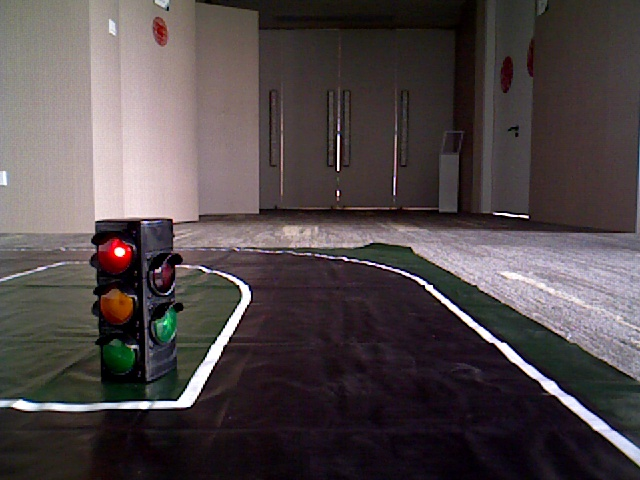red: (95, 222, 146, 366)
